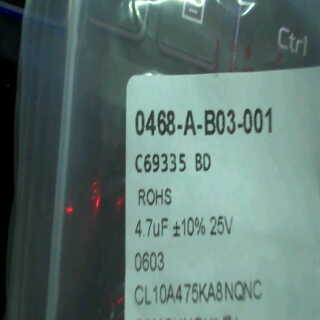4.7uF: (134, 213, 170, 243)
